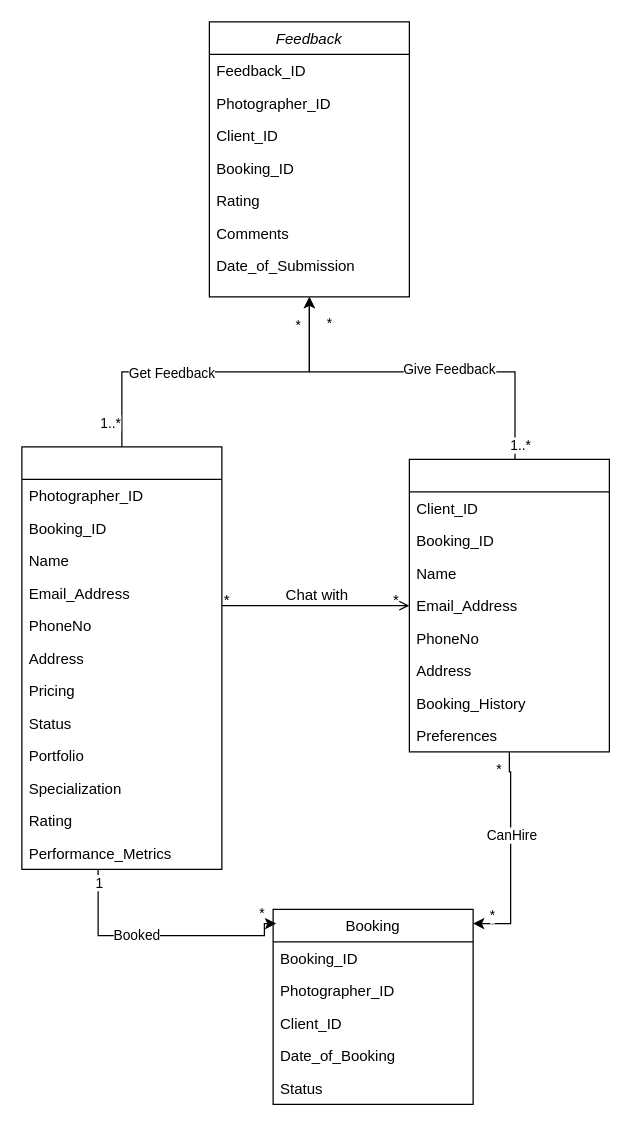
The diagram is 631 pixels wide and 1130 high, and some of its shapes have lost their labels. Here are the shapes that lost their labels. From the top down, the box of each, then its label:
(408, 458, 609, 752): Clients
(21, 446, 222, 869): Photographers
